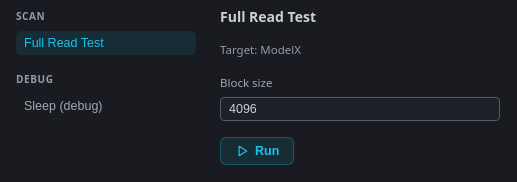
Test: RunTaskTab › switches the active operation when another sidebar entry is clicked
What coordinates should you click on to do the following:
click the button "Sleep (debug)"
I would click on:
 (106, 106)
Its box is x1=16 y1=94 x2=196 y2=118.
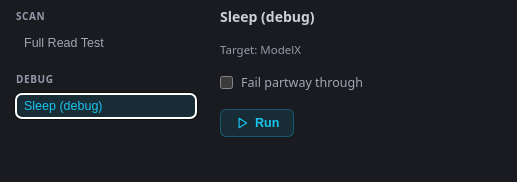
expect the heading "Sleep (debug)" is shown: met, box x1=220 y1=7 x2=315 y2=26
